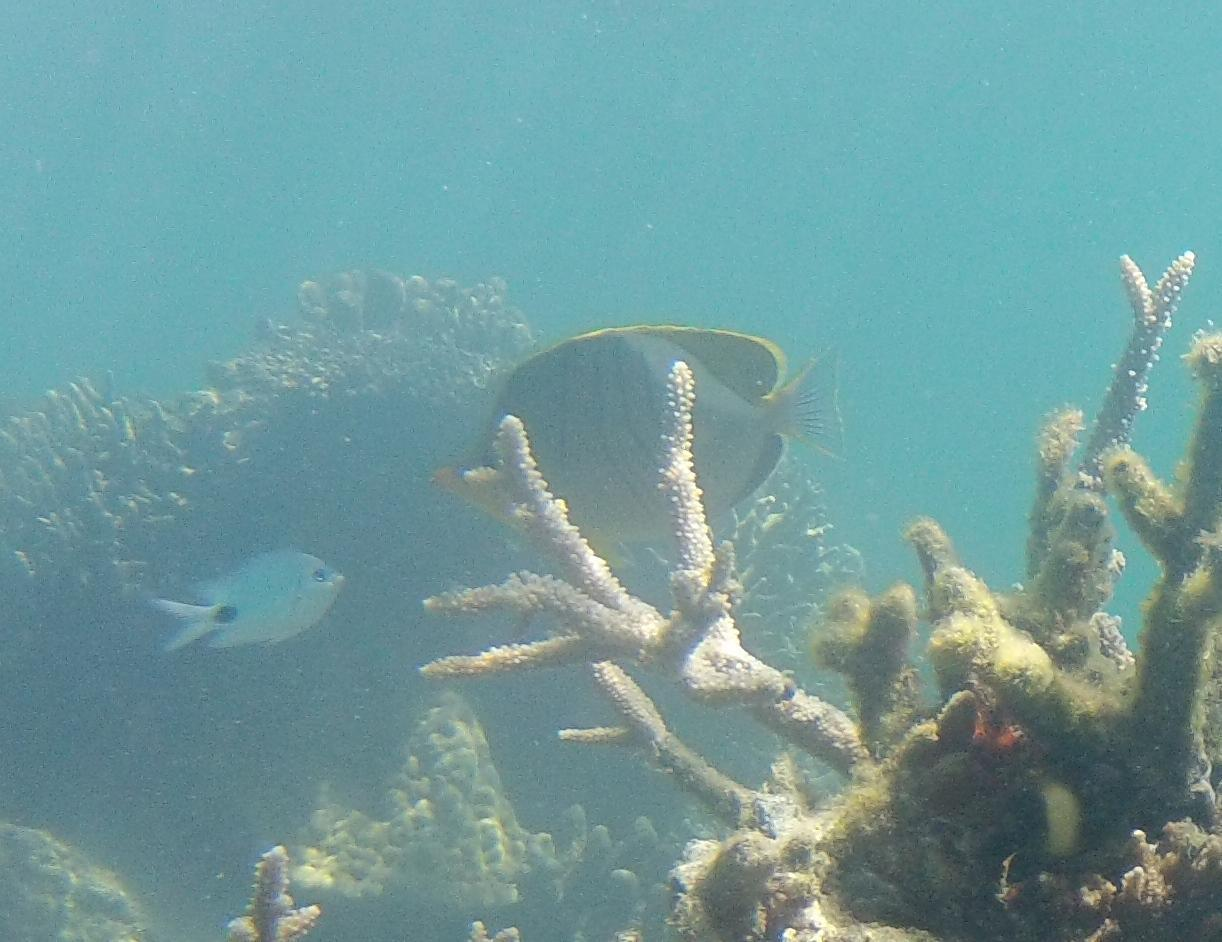Fish: (440, 298, 801, 574)
